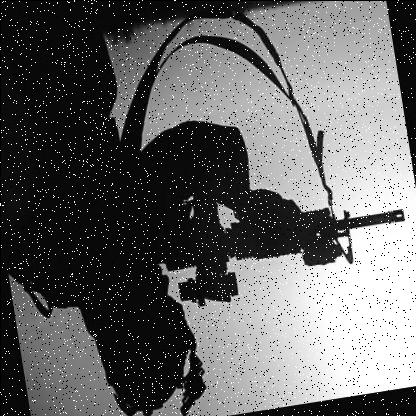rifle: (141, 154, 414, 320)
